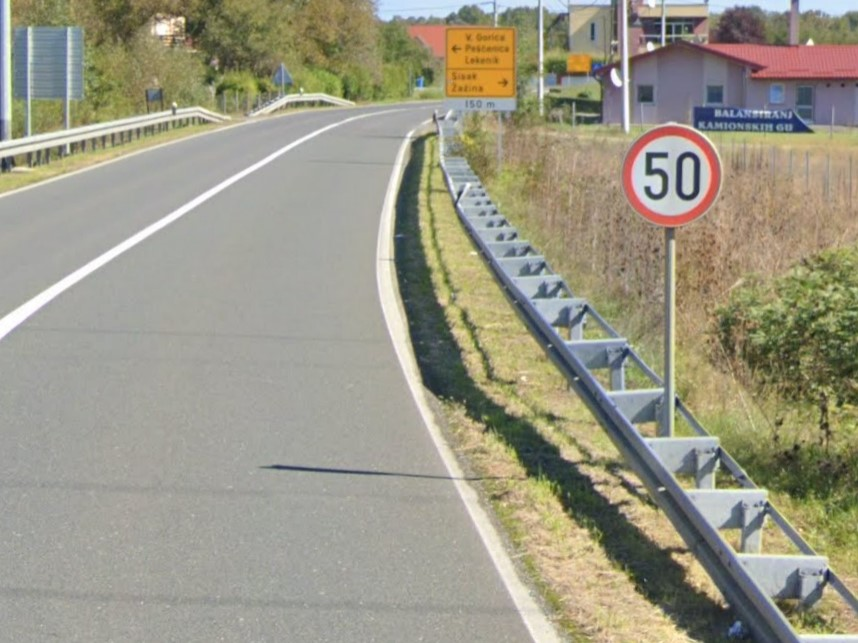Ograničenje brzine 50: (621, 124, 723, 227)
